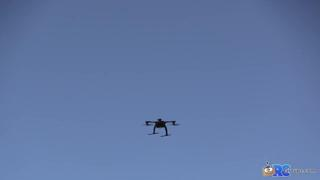UAV: (142, 119, 180, 137)
